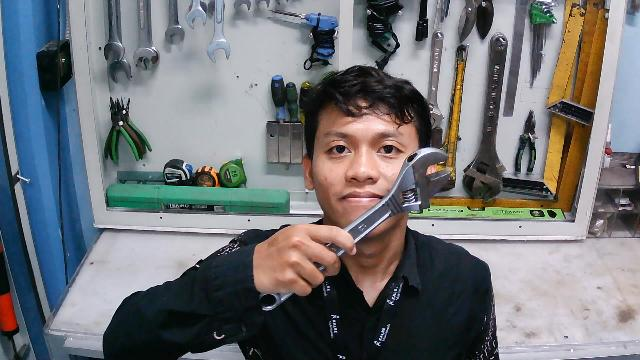kunci_inggris: (259, 148, 449, 312)
